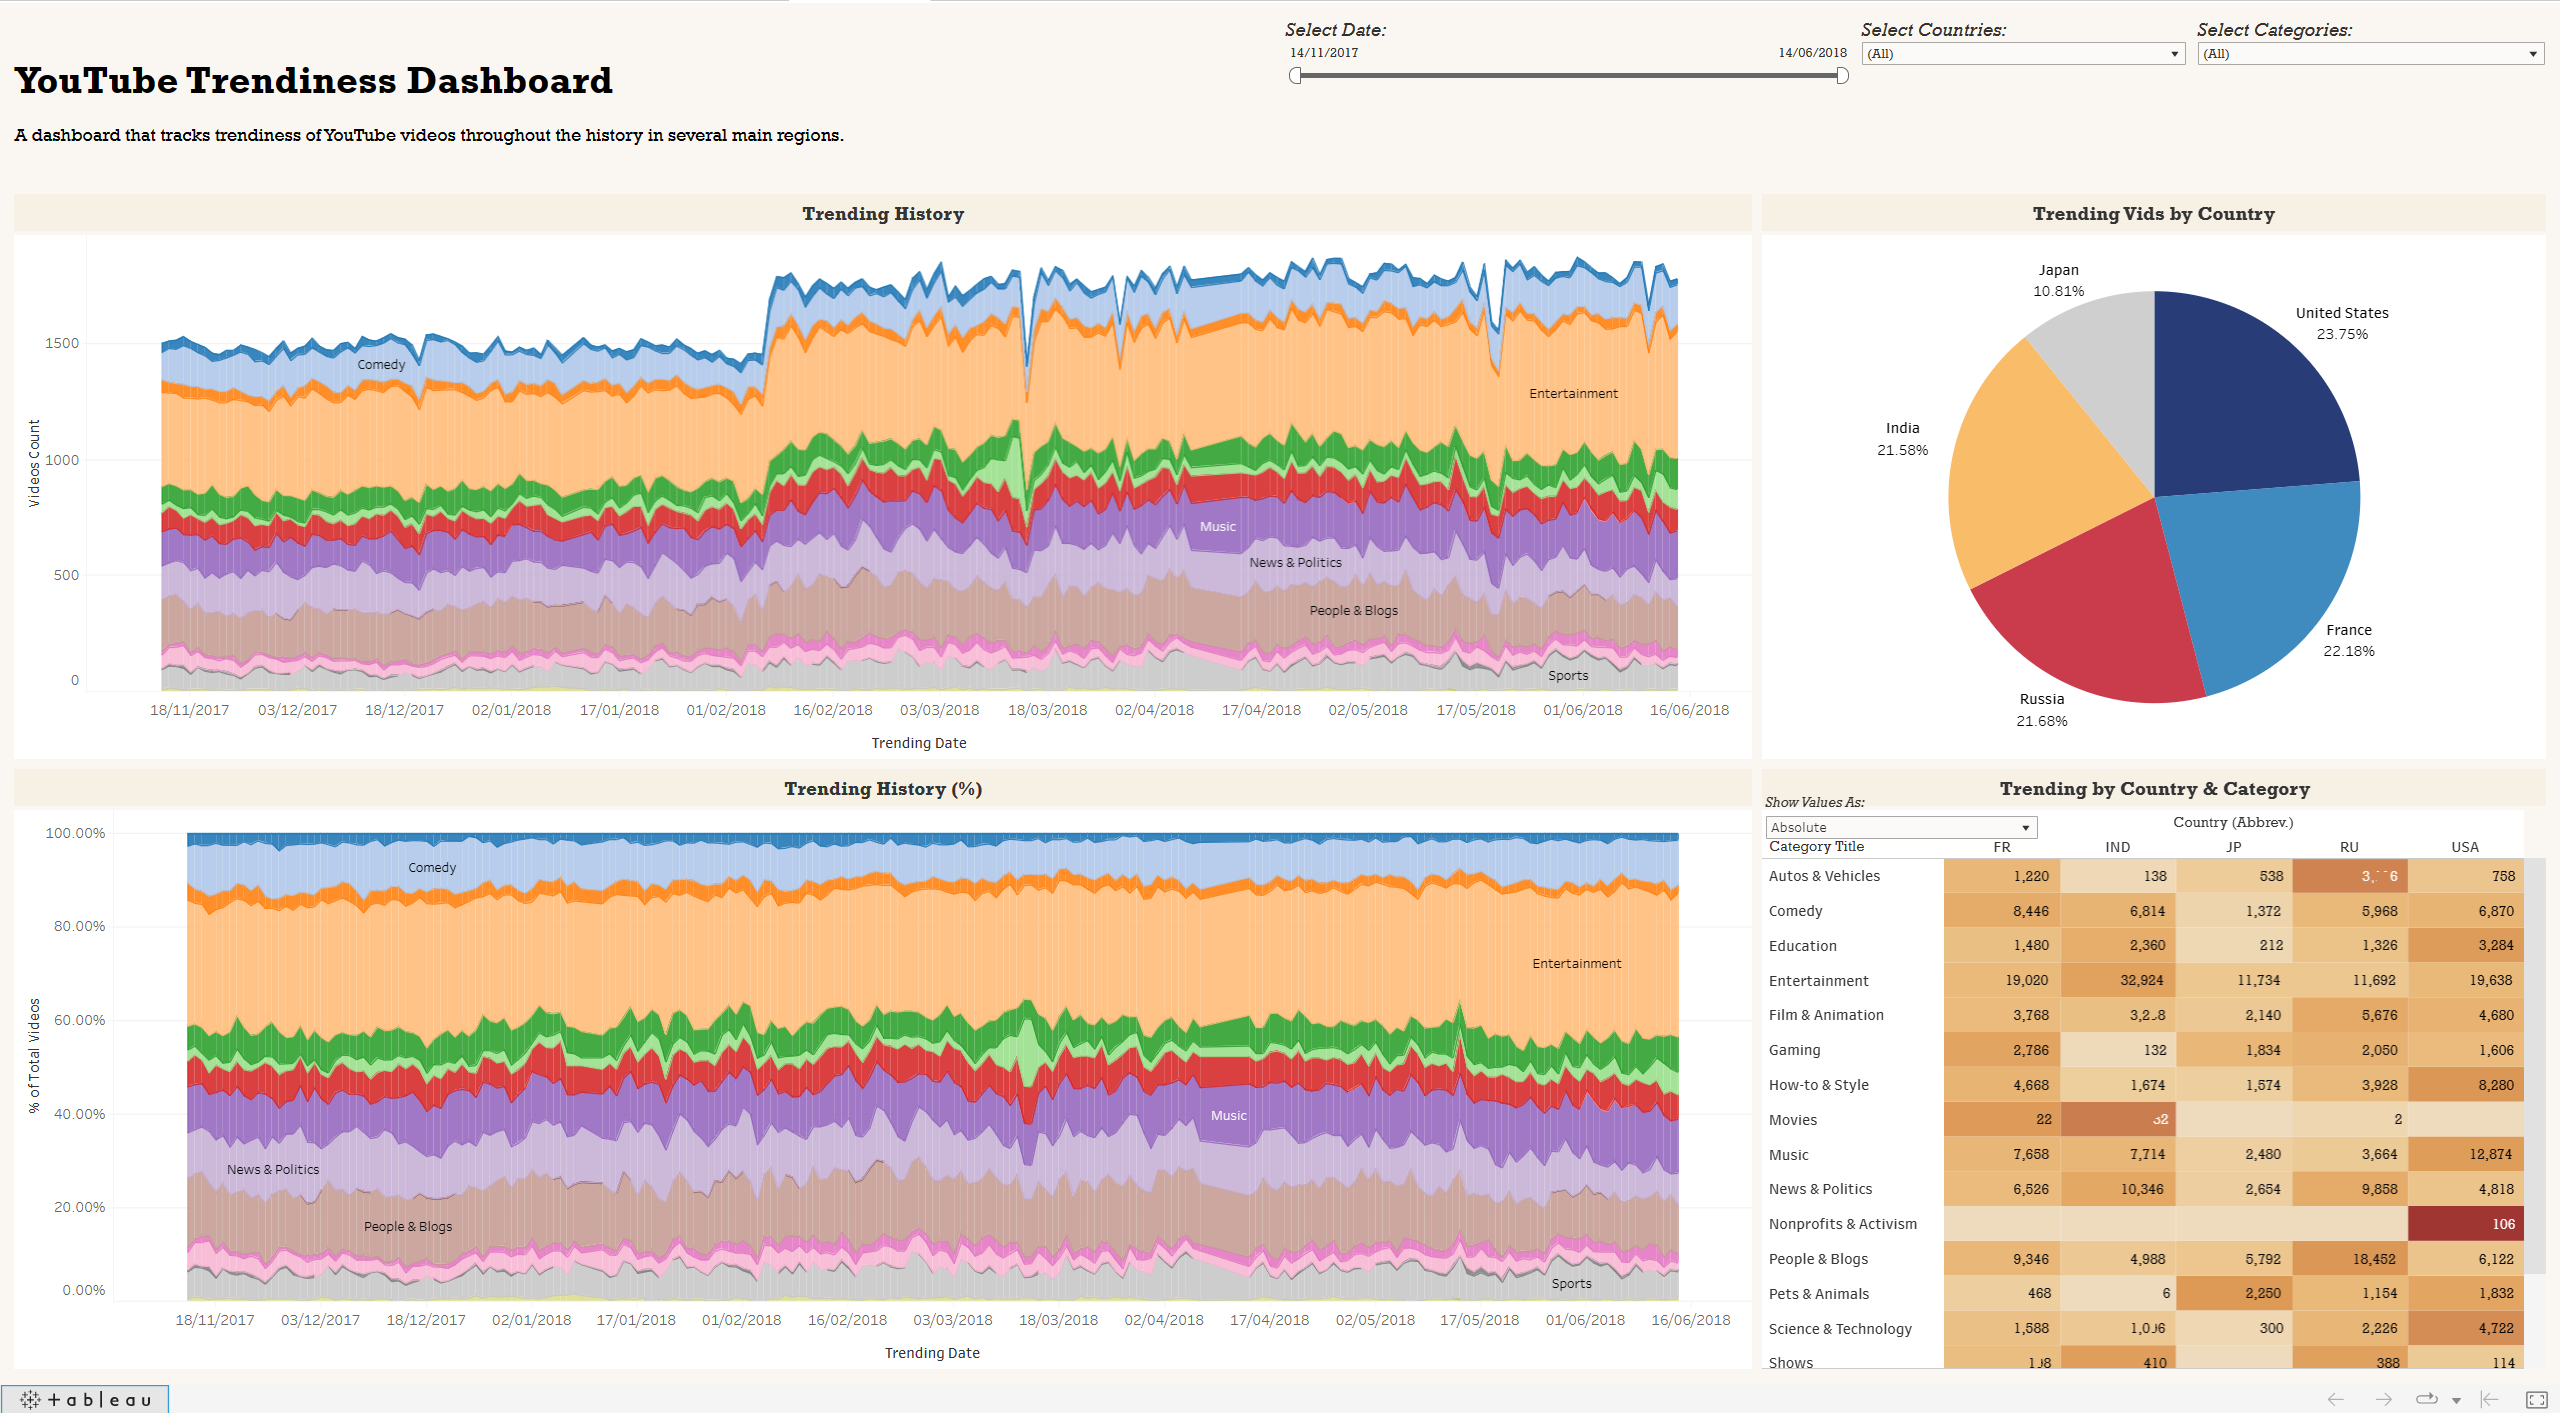

What the dashboard file says about the page in this screenshot:
{"tool":"tableau","page":{"name":"Dashboard Draft","canvas":[1000,1000],"units":"permille","ordinal":0},"visuals":[{"type":"text","box":[5.4,11.3,494.6,127.1]},{"type":"filter","title":"Trending History","param":"[federated.0ma35ly021iqr61h4wohu0gjqi2a].[none:trending_date:qk]","box":[500,11.3,224.4,127.1]},{"type":"filter","title":"Trending History","param":"[federated.0ma35ly021iqr61h4wohu0gjqi2a].[none:region:nk]","box":[724.3,11.3,270.3,127.1]},{"type":"worksheet","title":"Trending History","mark":"Area","rows":["videos_count"],"cols":["trending_date"],"box":[5.4,138.4,680.1,412.4]},{"type":"worksheet","title":"Trending Vids by Country","mark":"Pie","box":[685.4,138.4,309.2,412.4]},{"type":"worksheet","title":"Trending History (%)","mark":"Area","cols":["trending_date"],"box":[5.4,550.8,680.1,437.9]},{"type":"worksheet","title":"Trending by Country & Category","mark":"Square","rows":["category_title"],"cols":["Country (copy)_557039001601220612"],"box":[685.4,550.8,309.2,437.9]}]}

Visuals, with their boxes on the dashboard's canvas, which has no fixed pixel size, in thousandths of its width and height (x1, y1, x2, y2). These are canvas units, not pixel positions in the 2560x1413 screenshot, which may show the page scaled, cropped or inside an application window:
text: <bbox>5, 11, 500, 138</bbox>
"Trending History" filter: <bbox>500, 11, 724, 138</bbox>
"Trending History" filter: <bbox>724, 11, 995, 138</bbox>
"Trending History" worksheet (Area marks): <bbox>5, 138, 686, 551</bbox>
"Trending Vids by Country" worksheet (Pie marks): <bbox>685, 138, 995, 551</bbox>
"Trending History (%)" worksheet (Area marks): <bbox>5, 551, 686, 989</bbox>
"Trending by Country & Category" worksheet (Square marks): <bbox>685, 551, 995, 989</bbox>
